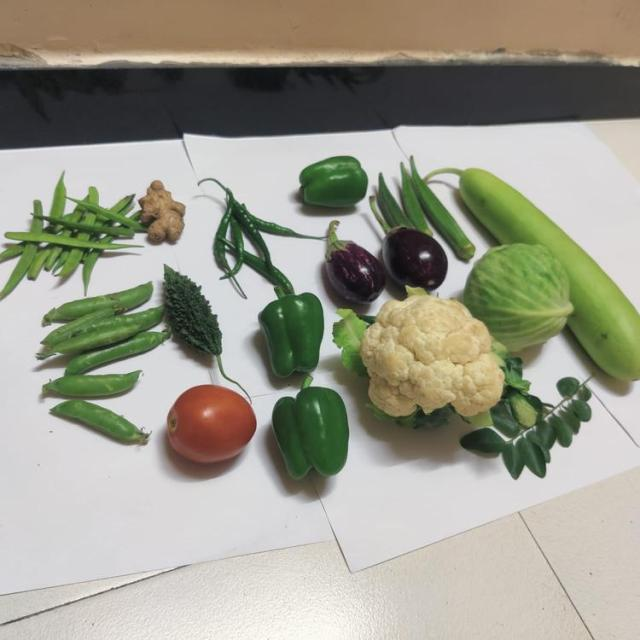Organik: (430, 164, 639, 378), (38, 282, 161, 456), (360, 290, 501, 420), (0, 164, 141, 284), (466, 244, 576, 337), (497, 369, 596, 472), (266, 378, 359, 483), (206, 190, 299, 284), (162, 246, 226, 381), (168, 383, 256, 470), (251, 283, 328, 377), (312, 220, 384, 301), (372, 223, 448, 287), (295, 152, 372, 212), (377, 163, 449, 223), (138, 178, 188, 248)
